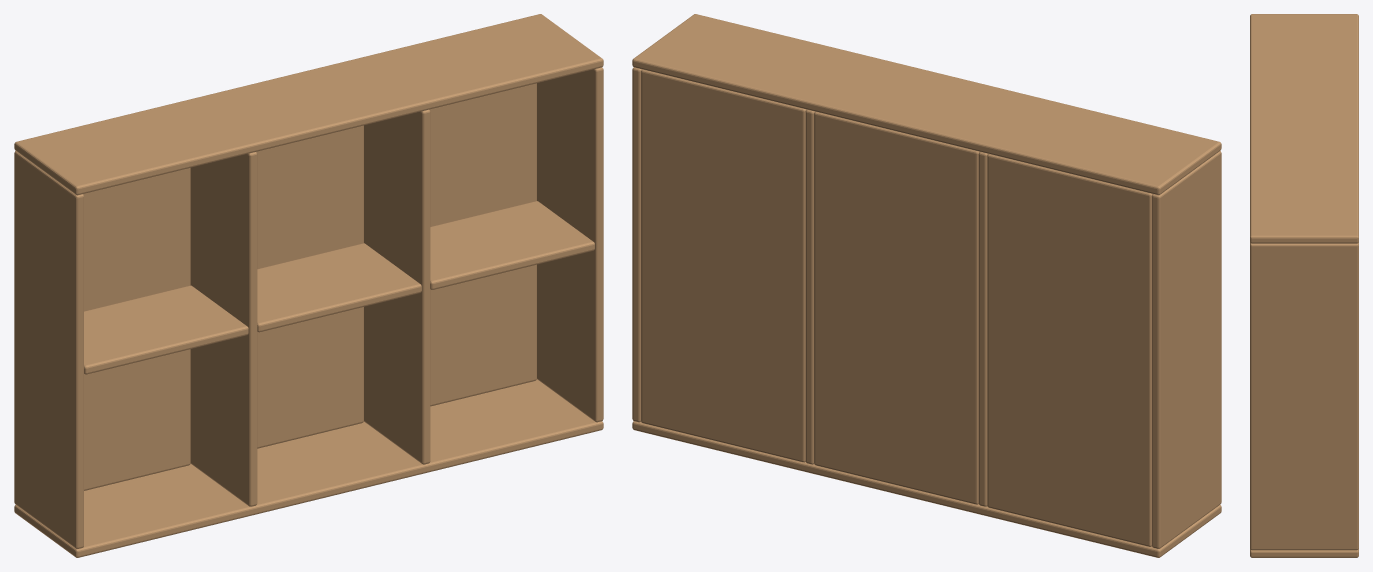
3 renders of one model, left to right at view 1: azimuth 30°, elevation 25°; view 2: azimuth 150°, elevation 25°; view 3: azimuth 270°, elevation 25°, orthographic. The views are drawn at different scales.
Visible parts, largest first — view 1: top, bottom, back-1, back-2, back-0, side-left, divider-0, divider-1, side-right, shelf-2, shelf-1, shelf-0; view 2: back-2, back-1, back-0, top, side-left, bottom, divider-0, side-right, divider-1; view 3: side-right, top, bottom.
Boxes of the visible parts, left/top/right/bottom form: top: left=14, top=14, right=603, bottom=195; bottom: left=14, top=379, right=603, bottom=557; back-1: left=256, top=125, right=363, bottom=448; back-2: left=429, top=83, right=536, bottom=406; back-0: left=83, top=168, right=190, bottom=490; side-left: left=14, top=151, right=83, bottom=548; divider-0: left=190, top=152, right=257, bottom=506; divider-1: left=364, top=109, right=430, bottom=464; side-right: left=537, top=67, right=603, bottom=422; shelf-2: left=430, top=201, right=594, bottom=289; shelf-1: left=257, top=243, right=421, bottom=332; shelf-0: left=84, top=285, right=248, bottom=374; back-2: left=641, top=69, right=806, bottom=462; back-1: left=814, top=111, right=979, bottom=504; back-0: left=987, top=154, right=1152, bottom=546; top: left=632, top=14, right=1221, bottom=195; side-left: left=1152, top=151, right=1221, bottom=548; bottom: left=632, top=421, right=1221, bottom=557; divider-0: left=978, top=152, right=987, bottom=506; side-right: left=632, top=67, right=641, bottom=422; divider-1: left=805, top=109, right=814, bottom=464; side-right: left=1250, top=243, right=1358, bottom=550; top: left=1250, top=14, right=1358, bottom=243; bottom: left=1250, top=549, right=1358, bottom=557.
Bounding box in the file's own units: 1.12 × 0.75 × 0.23.
